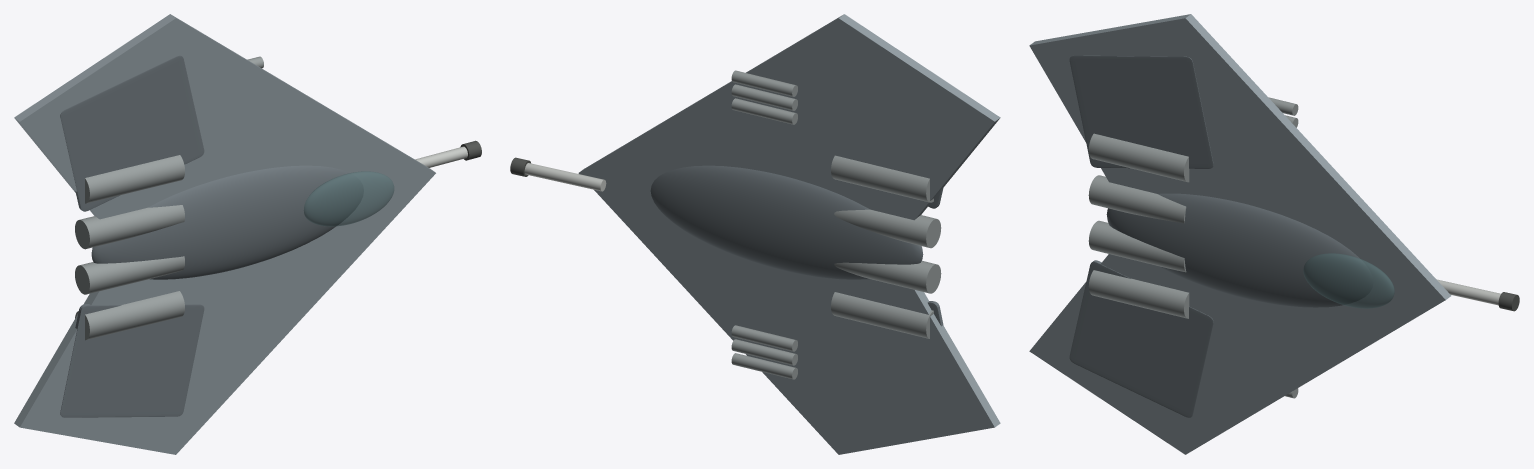
Rendered from s-u27-specter-heavy-bomber-lod1.glb.
3 renders of one model, left to right at view 1: azimuth 30°, elevation 25°; view 2: azimuth 150°, elevation 25°; view 3: azimuth 330°, elevation 25°, orthographic.
Visible parts, largest first — view 1: flying_wing_planform, flying_wing_core, flying_wing_elevon_1, flying_wing_elevon_-1, flying_wing_canopy, flying_wing_engine_2, flying_wing_engine_0, flying_wing_engine_3, flying_wing_engine_1, flying_wing_gun_barrel_0; view 2: flying_wing_planform, flying_wing_core, flying_wing_engine_0, flying_wing_engine_3, flying_wing_engine_2, flying_wing_engine_1, flying_wing_gun_barrel_0, flying_wing_-1_tube_2, flying_wing_1_tube_3, flying_wing_1_tube_2, flying_wing_-1_tube_1, flying_wing_-1_tube_3 (+1 smaller); view 3: flying_wing_planform, flying_wing_core, flying_wing_elevon_1, flying_wing_elevon_-1, flying_wing_canopy, flying_wing_engine_0, flying_wing_engine_3, flying_wing_engine_2, flying_wing_engine_1, flying_wing_gun_barrel_0.
Part boxes in pixels (<box>): flying_wing_planform: <box>14,14,435,454</box>; flying_wing_core: <box>91,165,363,279</box>; flying_wing_elevon_1: <box>60,55,204,211</box>; flying_wing_elevon_-1: <box>60,304,204,417</box>; flying_wing_canopy: <box>304,171,394,226</box>; flying_wing_engine_2: <box>75,205,184,249</box>; flying_wing_engine_0: <box>75,291,184,340</box>; flying_wing_engine_3: <box>85,155,184,203</box>; flying_wing_engine_1: <box>75,256,184,294</box>; flying_wing_gun_barrel_0: <box>415,146,467,167</box>; flying_wing_planform: <box>578,14,1000,454</box>; flying_wing_core: <box>650,165,923,279</box>; flying_wing_engine_0: <box>831,292,933,338</box>; flying_wing_engine_3: <box>831,155,933,202</box>; flying_wing_engine_2: <box>834,209,941,248</box>; flying_wing_engine_1: <box>834,261,941,293</box>; flying_wing_gun_barrel_0: <box>524,163,606,191</box>; flying_wing_-1_tube_2: <box>731,339,797,365</box>; flying_wing_1_tube_3: <box>731,70,797,96</box>; flying_wing_1_tube_2: <box>731,84,797,110</box>; flying_wing_-1_tube_1: <box>731,353,797,379</box>; flying_wing_-1_tube_3: <box>731,325,797,351</box>; flying_wing_planform: <box>1029,14,1451,454</box>; flying_wing_core: <box>1106,193,1373,307</box>; flying_wing_elevon_1: <box>1069,55,1213,168</box>; flying_wing_elevon_-1: <box>1069,260,1213,417</box>; flying_wing_canopy: <box>1303,253,1394,308</box>; flying_wing_engine_0: <box>1088,270,1189,318</box>; flying_wing_engine_3: <box>1088,133,1189,182</box>; flying_wing_engine_2: <box>1088,175,1186,223</box>; flying_wing_engine_1: <box>1088,220,1186,272</box>; flying_wing_gun_barrel_0: <box>1436,279,1500,305</box>.
Size of what is drawn, in the model's own units: 18.53 by 16.37 by 1.95.
